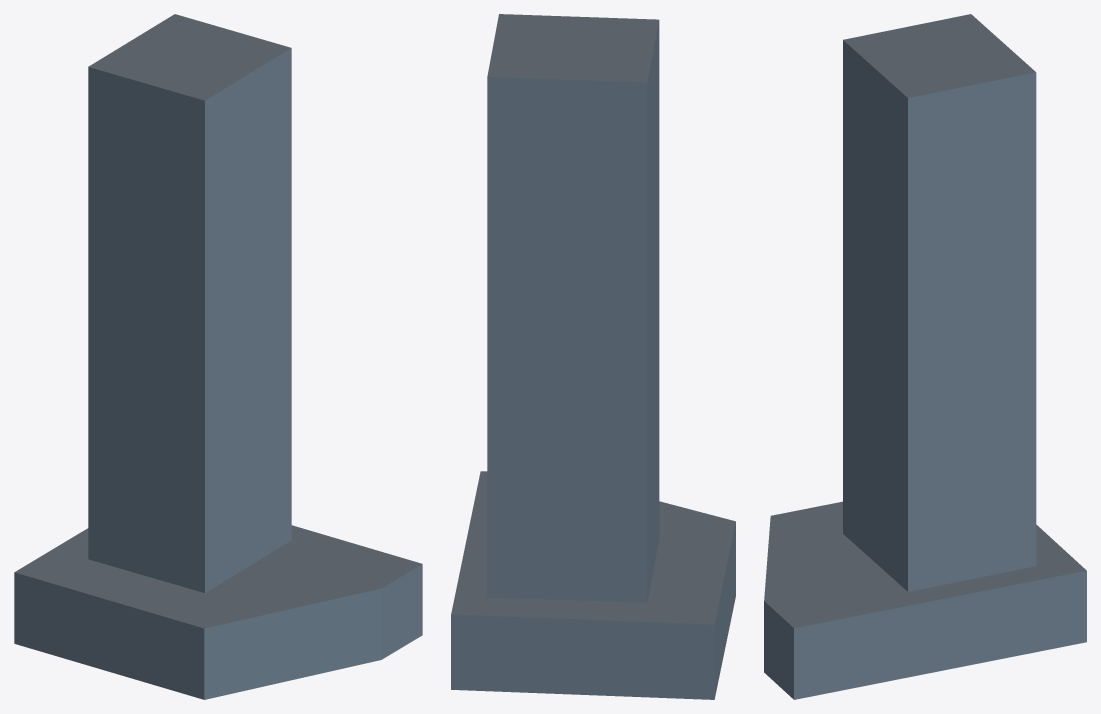
3 renders of one model, left to right at view 1: azimuth 30°, elevation 25°; view 2: azimuth 150°, elevation 25°; view 3: azimuth 270°, elevation 25°, orthographic. The views are drawn at different scales.
Visible parts, largest first — view 1: HP-w1197334329; view 2: HP-w1197334329; view 3: HP-w1197334329.
Boxes of the visible parts, x1,y1,x2,y2 form: HP-w1197334329: [14, 14, 422, 699]; HP-w1197334329: [451, 14, 735, 699]; HP-w1197334329: [764, 14, 1086, 699].
Bounding box in the file's own units: 87.66 × 150 × 77.59.
